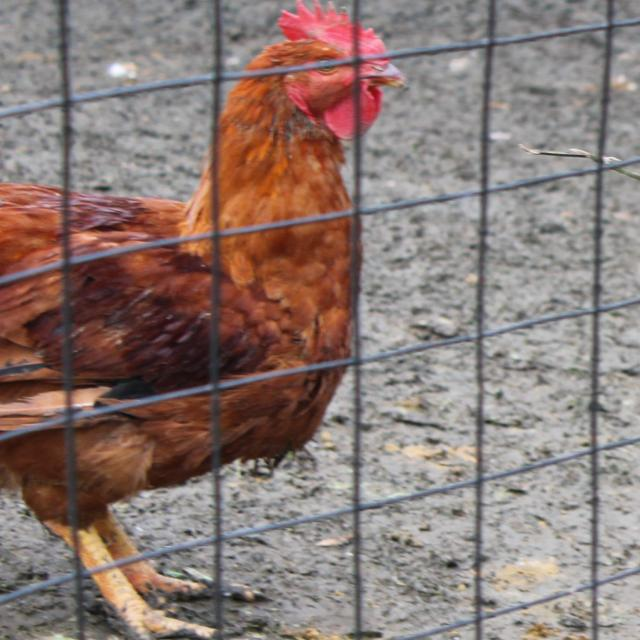cook: (0, 36, 447, 442), (0, 376, 250, 587), (216, 217, 353, 381), (209, 366, 357, 469), (0, 270, 69, 426), (242, 2, 357, 72)
